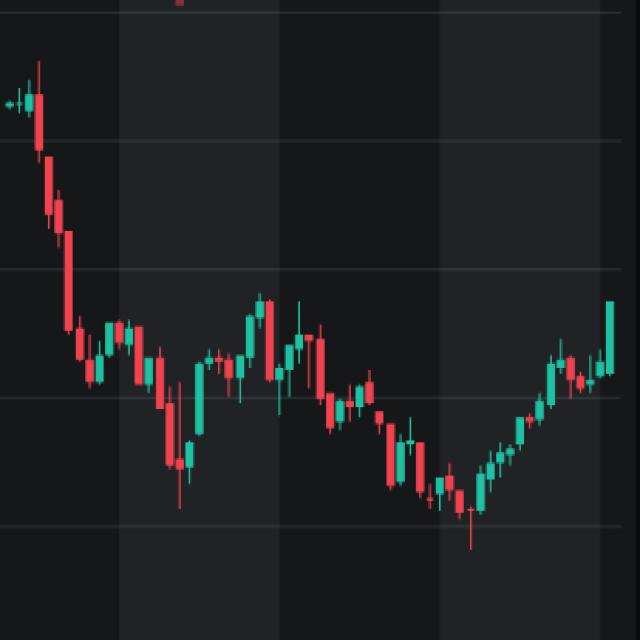Resistance-Emerging: (94, 285, 630, 523)
Support-breakout: (0, 50, 195, 477)
